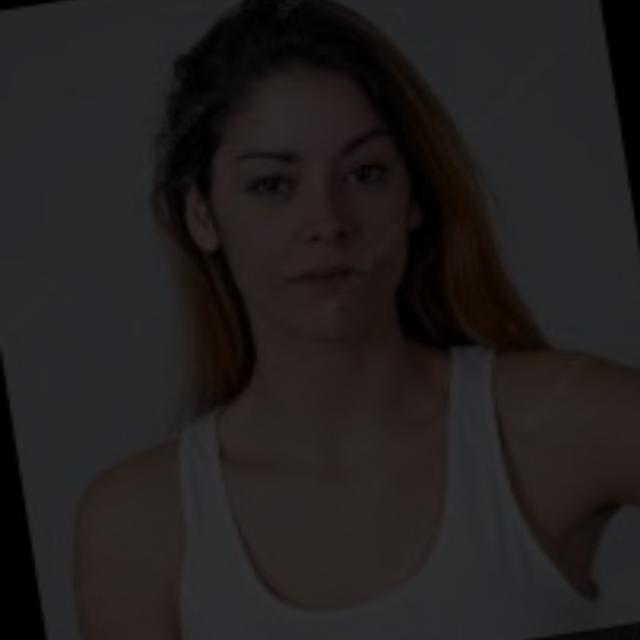Natural: (162, 56, 470, 351)
